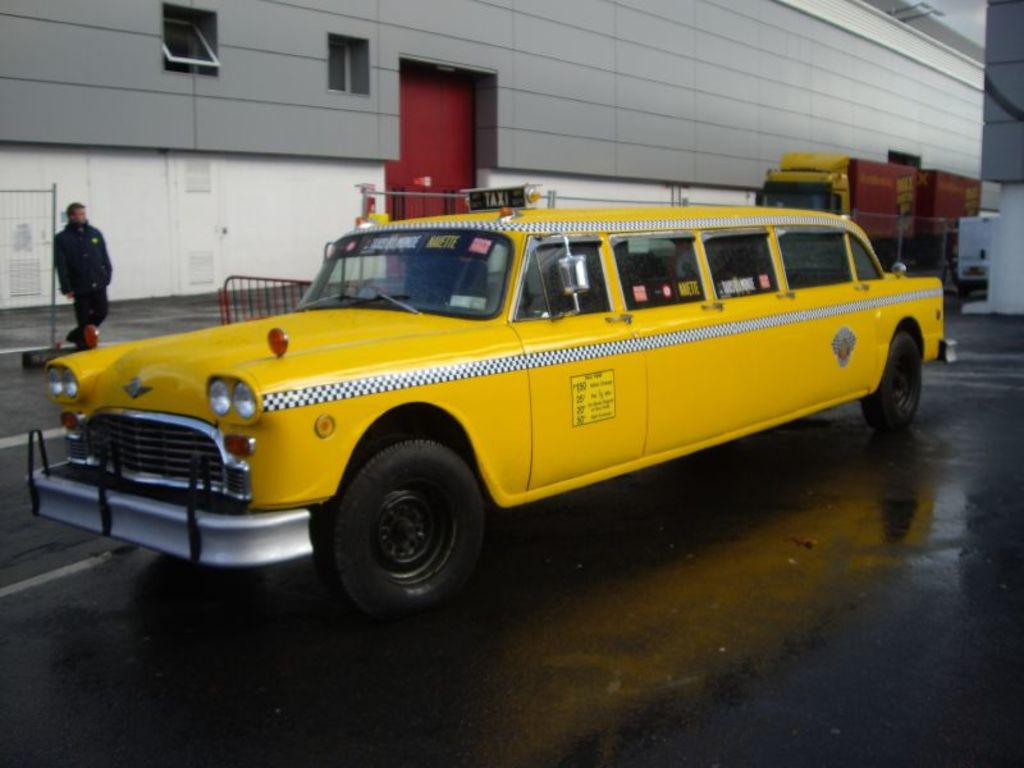taxi: (26, 183, 959, 622)
